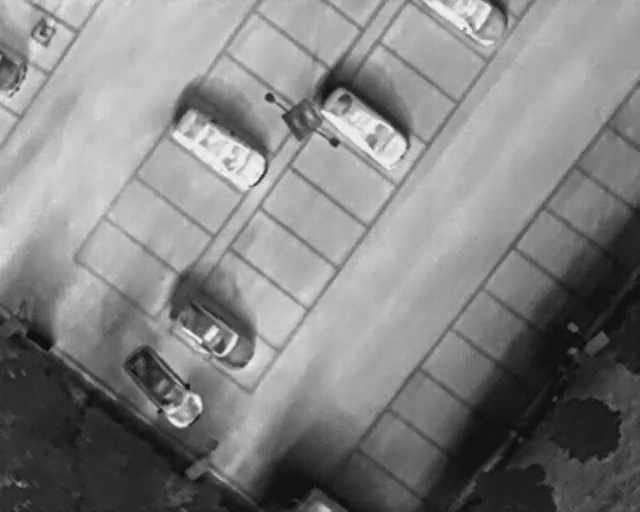Car: (165, 101, 275, 200), (312, 78, 419, 176), (115, 334, 213, 439), (407, 1, 507, 47)
